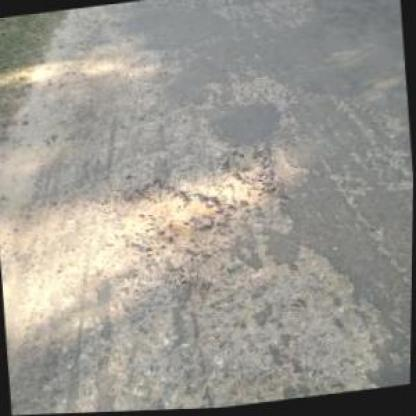pothole: (107, 170, 226, 265), (214, 143, 287, 218)
